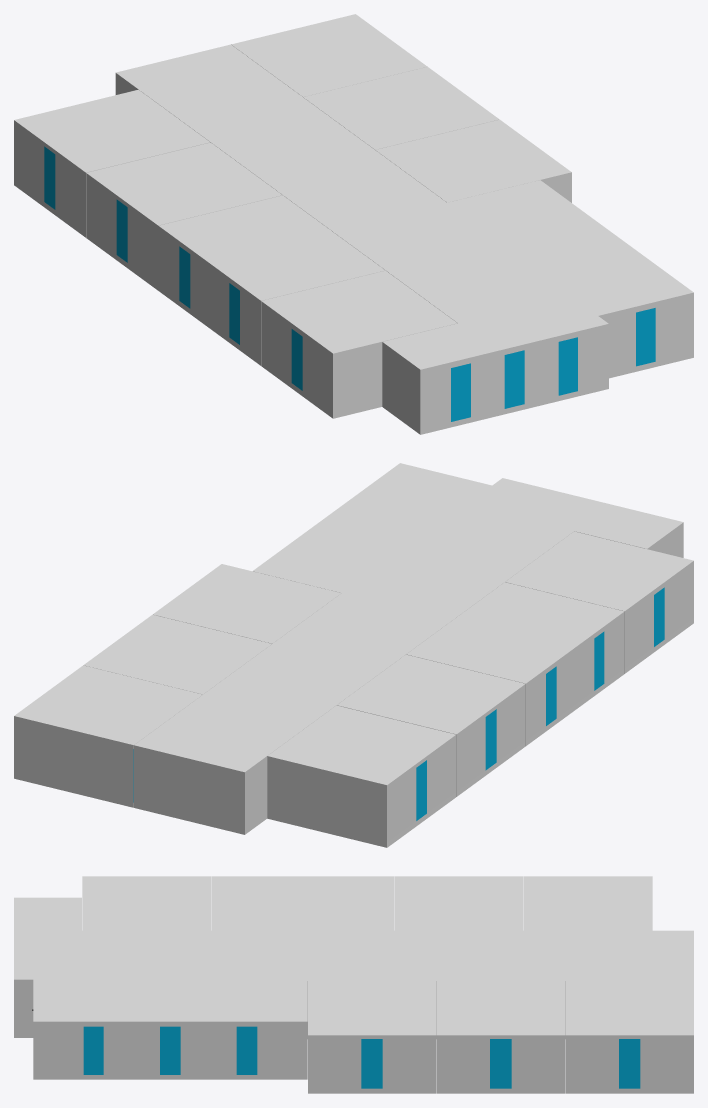
The model's file is AreaAja.fbx.
The picture shows the model from 3 angles, top to bottom: view 1: azimuth 30°, elevation 25°; view 2: azimuth 150°, elevation 25°; view 3: azimuth 270°, elevation 25°; orthographic projection. The views are drawn at different scales.
Parts seen in each view (by area): view 1: Cube.052, Cube.031, Cube.047, Cube.046, Cube.045, Cube.048, Cube.049, Cube.050, Cube.051, Cube.055, Cube.019, Cube.287 (+1 smaller); view 2: Cube.052, Cube.047, Cube.287, Cube.045, Cube.051, Cube.046, Cube.048, Cube.049, Cube.050, Cube.031, Cube.165, Cube.019 (+2 smaller); view 3: Cube.052, Cube.031, Cube.047, Cube.050, Cube.049, Cube.051, Cube.147, Cube.136, Cube.165, Cube.045, Cube.046, Cube.048.
Boxes of the visible parts, x1=… form: Cube.052: x1=115, y1=44, x2=693, y2=375; Cube.031: x1=115, y1=79, x2=693, y2=434; Cube.047: x1=158, y1=195, x2=385, y2=305; Cube.046: x1=261, y1=270, x2=457, y2=358; Cube.045: x1=14, y1=89, x2=210, y2=176; Cube.048: x1=86, y1=142, x2=282, y2=229; Cube.049: x1=375, y1=119, x2=571, y2=202; Cube.050: x1=303, y1=67, x2=499, y2=149; Cube.051: x1=231, y1=14, x2=427, y2=96; Cube.055: x1=261, y1=306, x2=382, y2=418; Cube.019: x1=158, y1=231, x2=261, y2=365; Cube.287: x1=14, y1=124, x2=86, y2=237; Cube.052: x1=134, y1=463, x2=683, y2=777; Cube.047: x1=406, y1=582, x2=624, y2=688; Cube.287: x1=267, y1=739, x2=456, y2=847; Cube.045: x1=267, y1=705, x2=456, y2=788; Cube.051: x1=14, y1=665, x2=202, y2=748; Cube.046: x1=505, y1=531, x2=693, y2=615; Cube.048: x1=337, y1=654, x2=525, y2=738; Cube.049: x1=153, y1=564, x2=341, y2=643; Cube.050: x1=83, y1=614, x2=271, y2=694; Cube.031: x1=134, y1=528, x2=683, y2=834; Cube.165: x1=14, y1=720, x2=133, y2=807; Cube.019: x1=525, y1=616, x2=624, y2=745; Cube.052: x1=14, y1=897, x2=693, y2=1026; Cube.031: x1=14, y1=985, x2=565, y2=1079; Cube.047: x1=211, y1=876, x2=394, y2=930; Cube.050: x1=436, y1=981, x2=565, y2=1038; Cube.049: x1=308, y1=981, x2=436, y2=1038; Cube.051: x1=565, y1=981, x2=693, y2=1038; Cube.147: x1=436, y1=1039, x2=565, y2=1093; Cube.136: x1=308, y1=1039, x2=436, y2=1093; Cube.165: x1=565, y1=1039, x2=693, y2=1093; Cube.045: x1=524, y1=876, x2=652, y2=930; Cube.046: x1=82, y1=876, x2=210, y2=930; Cube.048: x1=395, y1=876, x2=523, y2=930.
Bounding box in the file's own units: 2051 × 350 × 3705.
